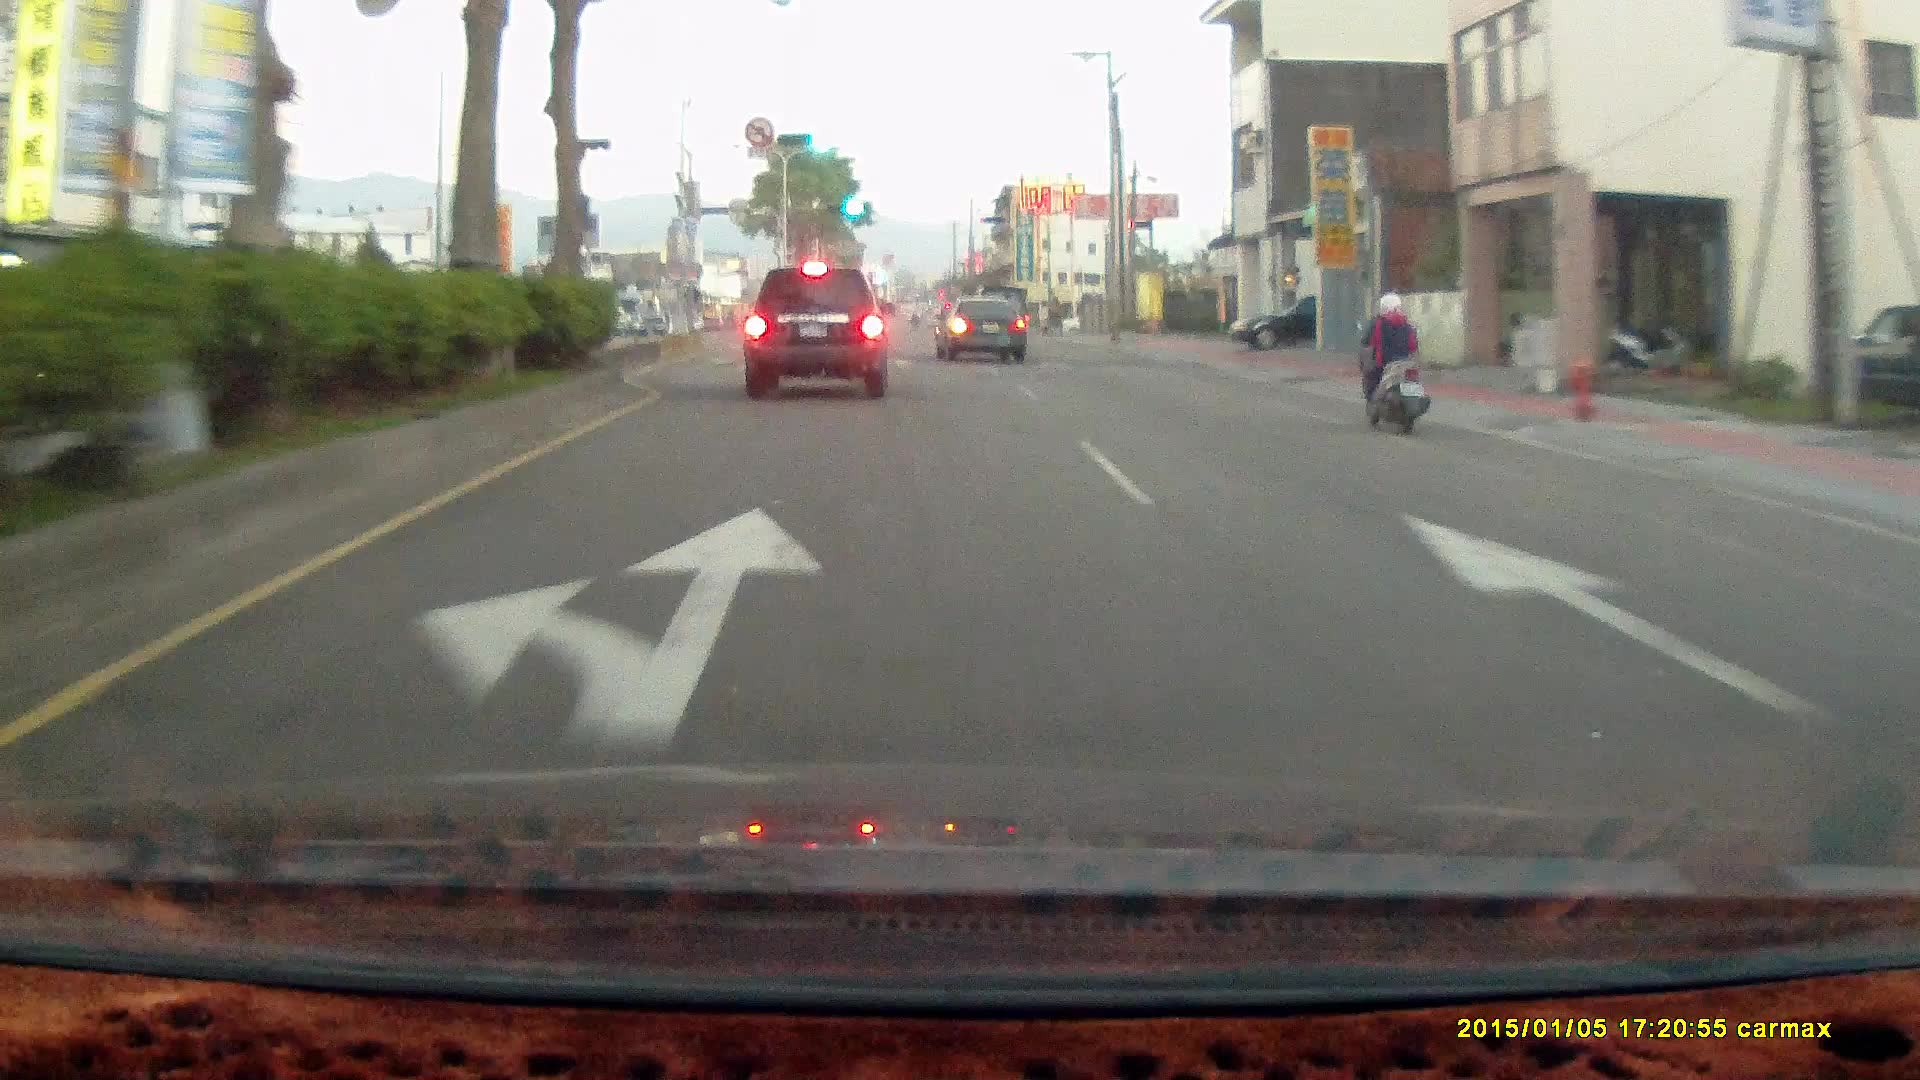rider: (1342, 280, 1445, 444), (1354, 289, 1430, 437)
vehicle: (736, 261, 889, 401), (742, 267, 895, 400), (1837, 302, 1920, 426), (1226, 290, 1394, 348), (933, 293, 1025, 359), (940, 297, 1031, 363), (1226, 293, 1322, 352)
